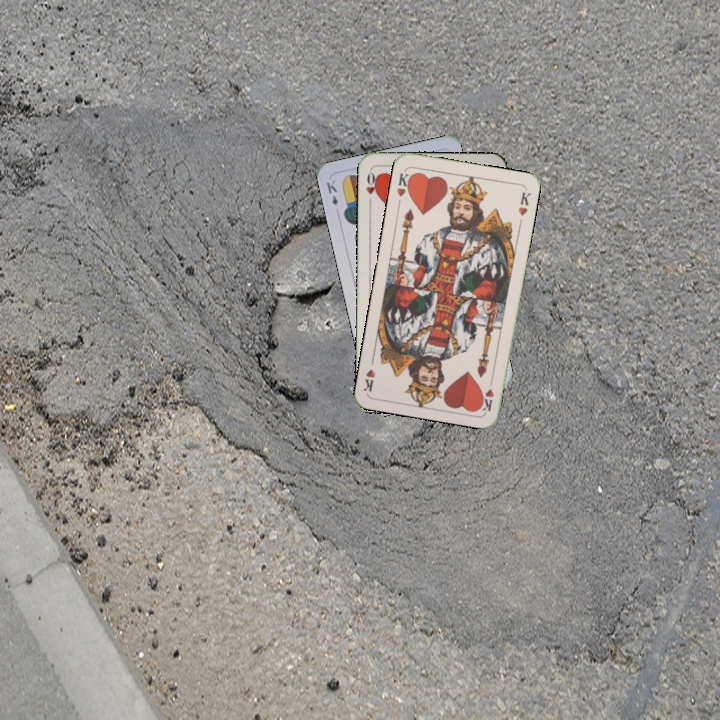EK: (322, 176, 340, 209)
HK: (478, 373, 497, 414), (393, 166, 415, 199)
HO: (362, 167, 381, 207)
